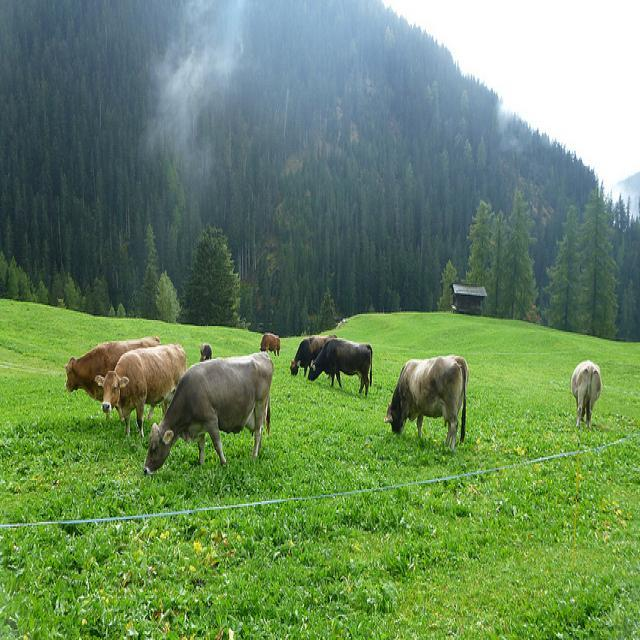cow: (141, 349, 274, 476), (93, 340, 186, 438), (383, 353, 467, 450), (61, 333, 161, 401), (307, 337, 371, 394), (289, 330, 337, 377), (570, 356, 599, 426), (258, 331, 279, 355), (198, 341, 211, 360)
